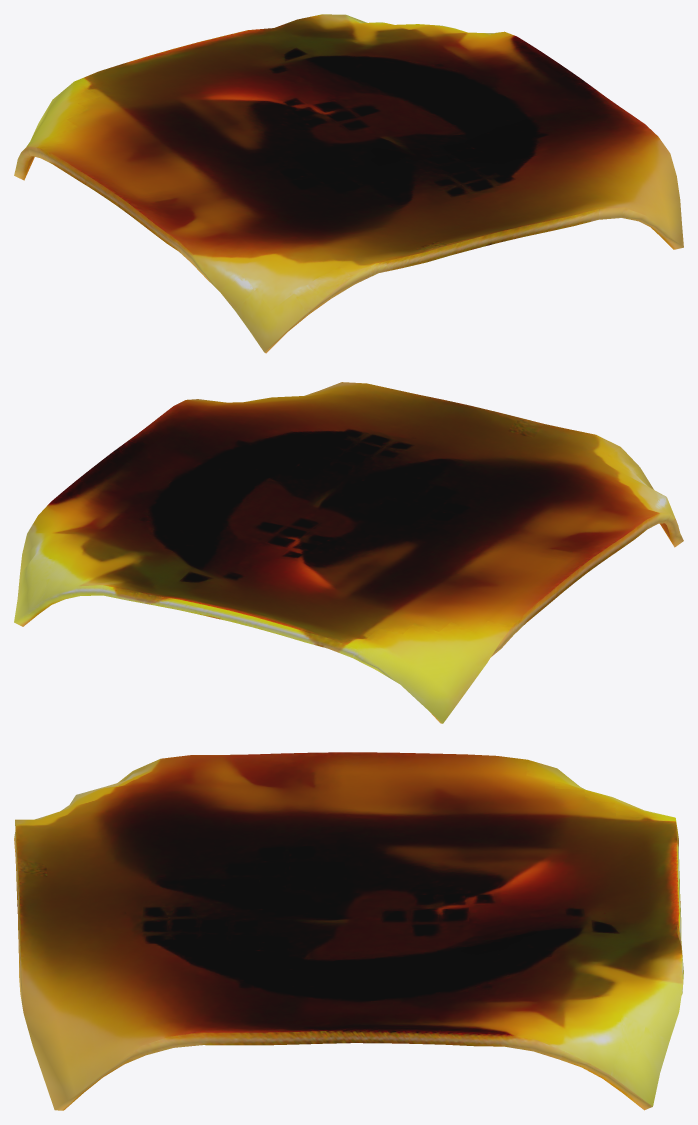
The model's file is cheese.glb.
3 views of the same model, one above another, from view 1: azimuth 30°, elevation 25°; view 2: azimuth 150°, elevation 25°; view 3: azimuth 270°, elevation 25° (orthographic). The views are drawn at different scales.
Visible parts, largest first — view 1: cheese; view 2: cheese; view 3: cheese.
Boxes of the visible parts, x1,y1,x2,y2 form: cheese: [14, 14, 683, 353]; cheese: [14, 382, 683, 723]; cheese: [14, 752, 683, 1110].
Bounding box in the file's own units: 0.5278 × 0.0854 × 0.5309.
Materials: 1 (1 with a texture image).
